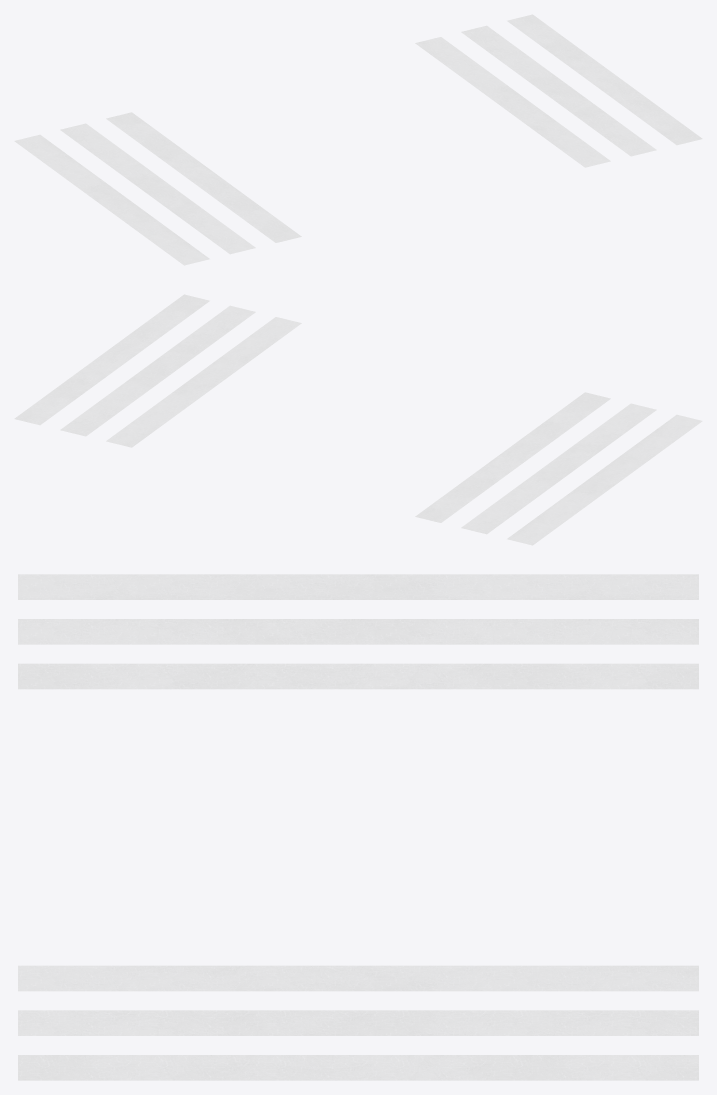
File: touchdown_point_3.gltf
3 renders of one model, top to bottom at view 1: azimuth 30°, elevation 25°; view 2: azimuth 150°, elevation 25°; view 3: azimuth 270°, elevation 25°, orthographic. The views are drawn at different scales.
Visible parts, largest first — view 1: touchdown_point_3; view 2: touchdown_point_3; view 3: touchdown_point_3.
Part boxes in pixels (<box>): touchdown_point_3: <box>14,14,702,265</box>; touchdown_point_3: <box>14,294,702,545</box>; touchdown_point_3: <box>18,574,698,1080</box>.
Size of the model in its own units: 39.6 by 0 by 22.5.
